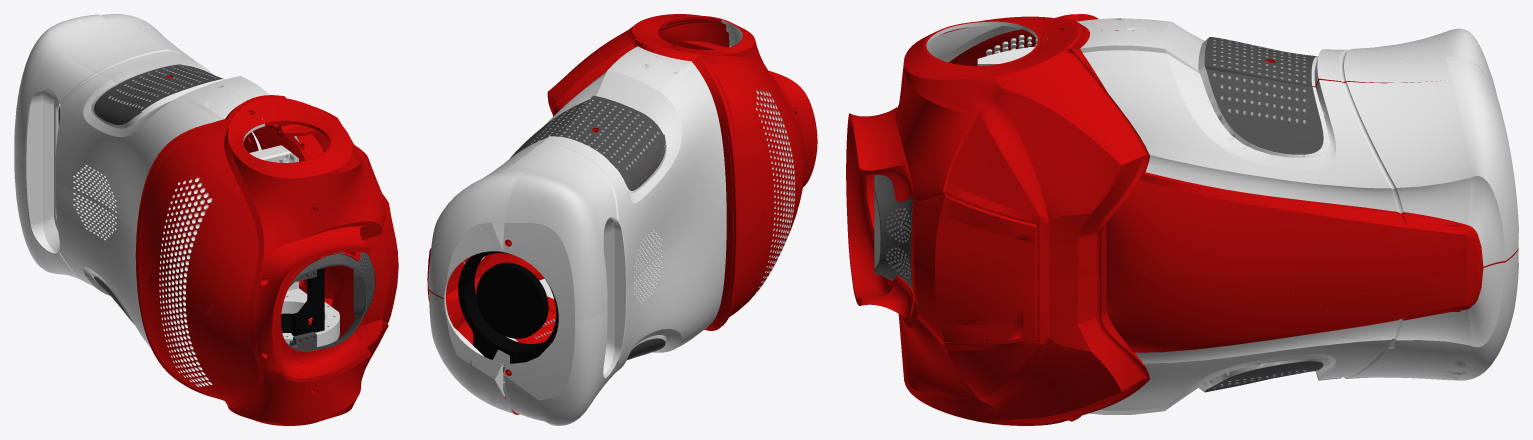
The picture shows the model from 3 angles, left to right: view 1: azimuth 30°, elevation 25°; view 2: azimuth 150°, elevation 25°; view 3: azimuth 270°, elevation 25°; orthographic projection. The views are drawn at different scales.
Visible parts, largest first — view 1: WRAB0300000; view 2: WRAB0300000; view 3: WRAB0300000.
Boxes of the visible parts, x1,y1,x2,y2 form: WRAB0300000: (14, 14, 398, 425); WRAB0300000: (427, 14, 817, 425); WRAB0300000: (846, 14, 1518, 425).
Size of the model in its own units: 0.2711 by 0.3607 by 0.5839.
